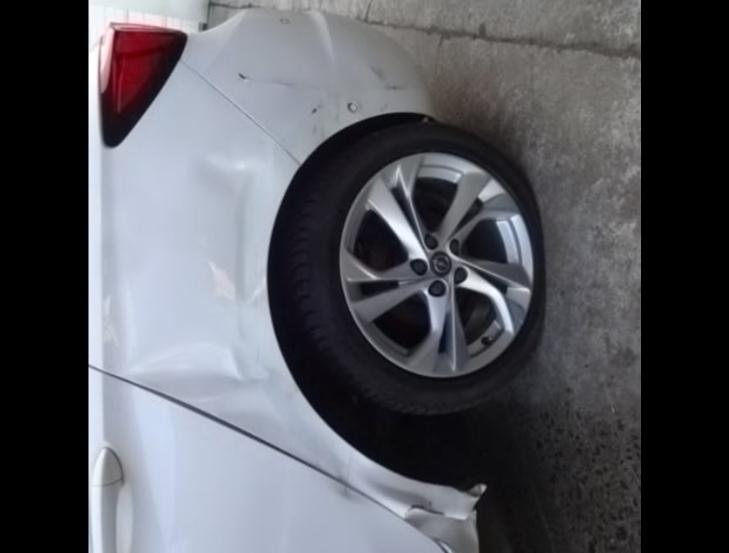Dent: (113, 141, 484, 553), (329, 482, 369, 503)
Scratch: (302, 72, 361, 146), (229, 70, 295, 90), (365, 64, 409, 94), (374, 97, 391, 113)
